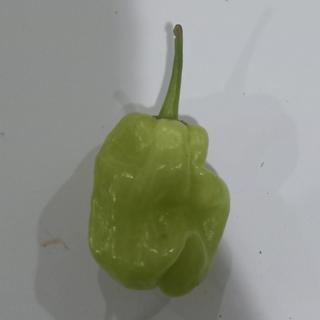Grade-A: (87, 109, 236, 302)
